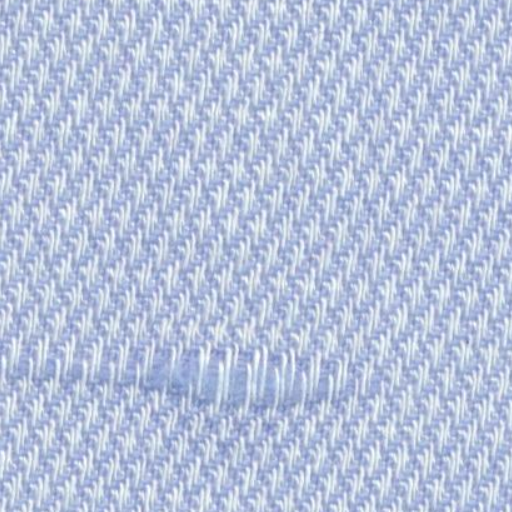DaiSha: (9, 322, 408, 424)
